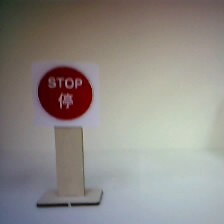stop: (27, 59, 100, 130)
